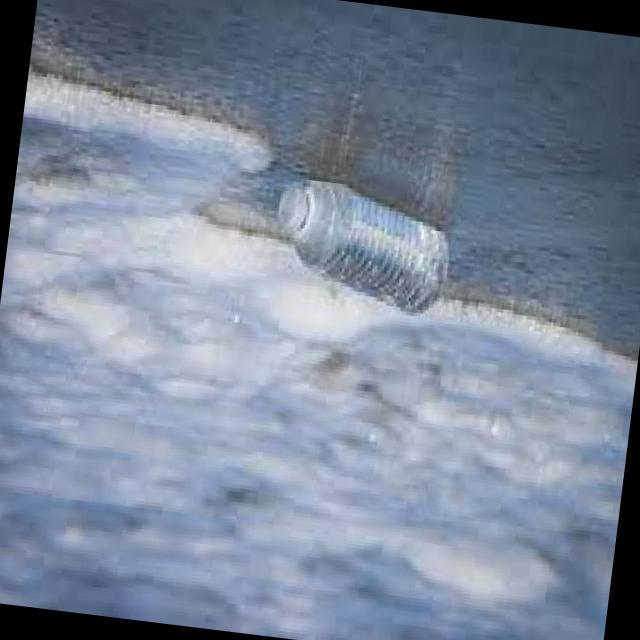plastic_bottle: (268, 175, 457, 318)
